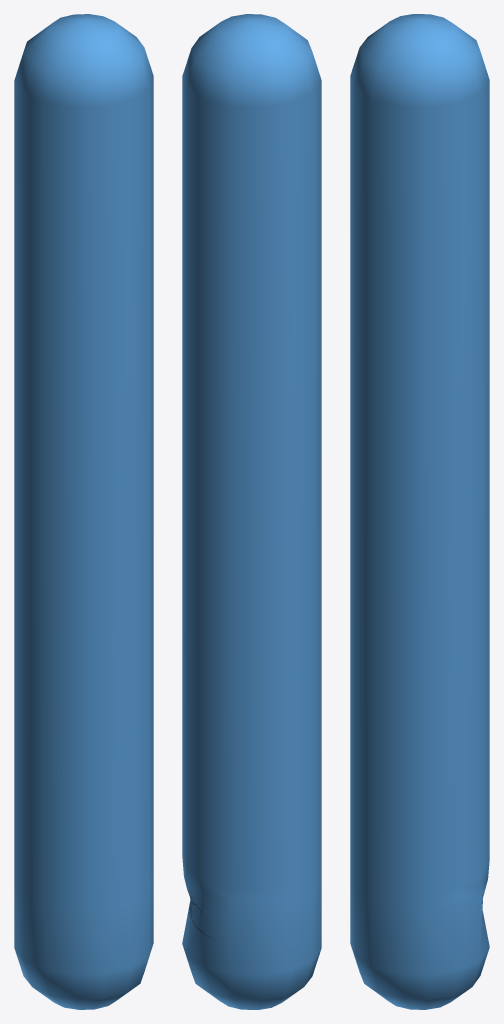
Rendered from BlueTankDamaged_01.fbx.
The picture shows the model from 3 angles, left to right: view 1: azimuth 30°, elevation 25°; view 2: azimuth 150°, elevation 25°; view 3: azimuth 330°, elevation 25°; orthographic projection.
Parts seen in each view (by area): view 1: DamagedTank; view 2: DamagedTank; view 3: DamagedTank.
Boxes of the visible parts, bbox=[...] form: DamagedTank: bbox=[14, 14, 153, 1009]; DamagedTank: bbox=[182, 14, 321, 1009]; DamagedTank: bbox=[350, 14, 489, 1009].
Size of the model in its own units: 0.2369 by 1.81 by 0.2311.
Materials: 1 (1 with a texture image).
